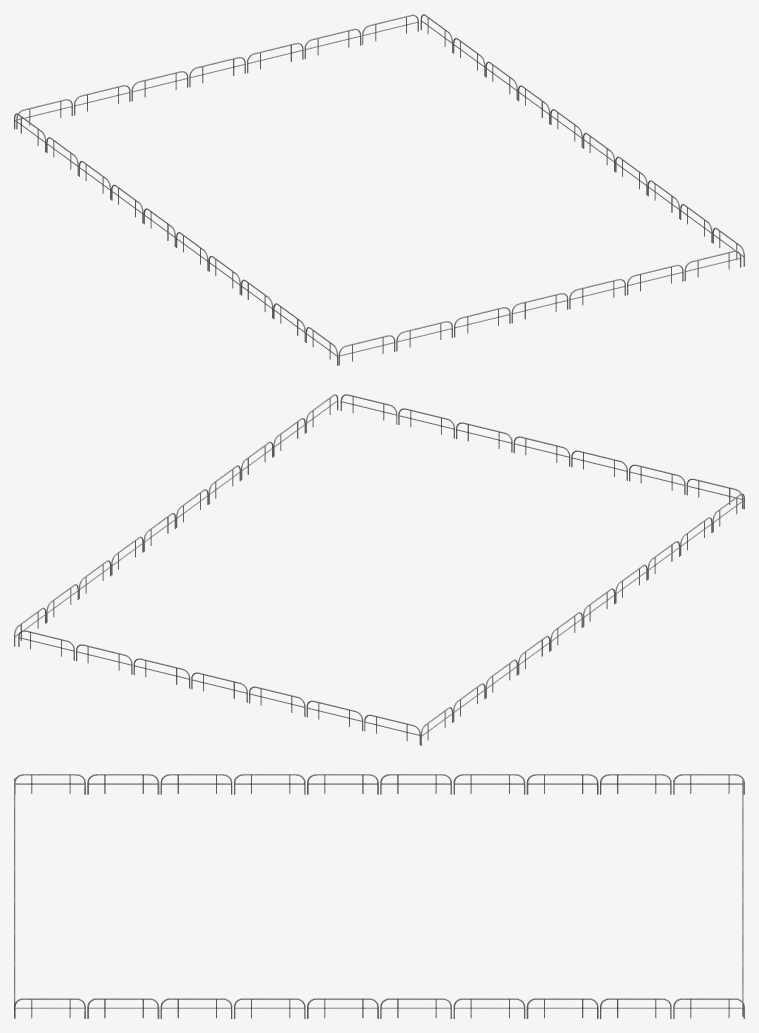
The model's file is Vallas.fbx.
The picture shows the model from 3 angles, top to bottom: view 1: azimuth 30°, elevation 25°; view 2: azimuth 150°, elevation 25°; view 3: azimuth 270°, elevation 25°; orthographic projection. The views are drawn at different scales.
Parts seen in each view (by area): view 1: Valla_Pabellon; view 2: Valla_Pabellon; view 3: Valla_Pabellon.
Part boxes in pixels (<box>): Valla_Pabellon: <box>14,14,744,365</box>; Valla_Pabellon: <box>14,394,744,745</box>; Valla_Pabellon: <box>14,774,744,1018</box>.
Bounding box in the file's own units: 2785 × 118 × 3828.
Materials: 1 (1 with a texture image).
